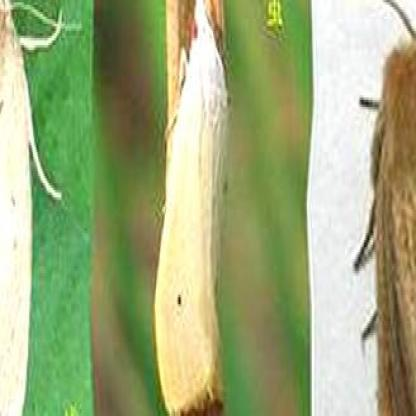stem-borer: (153, 0, 230, 416)
